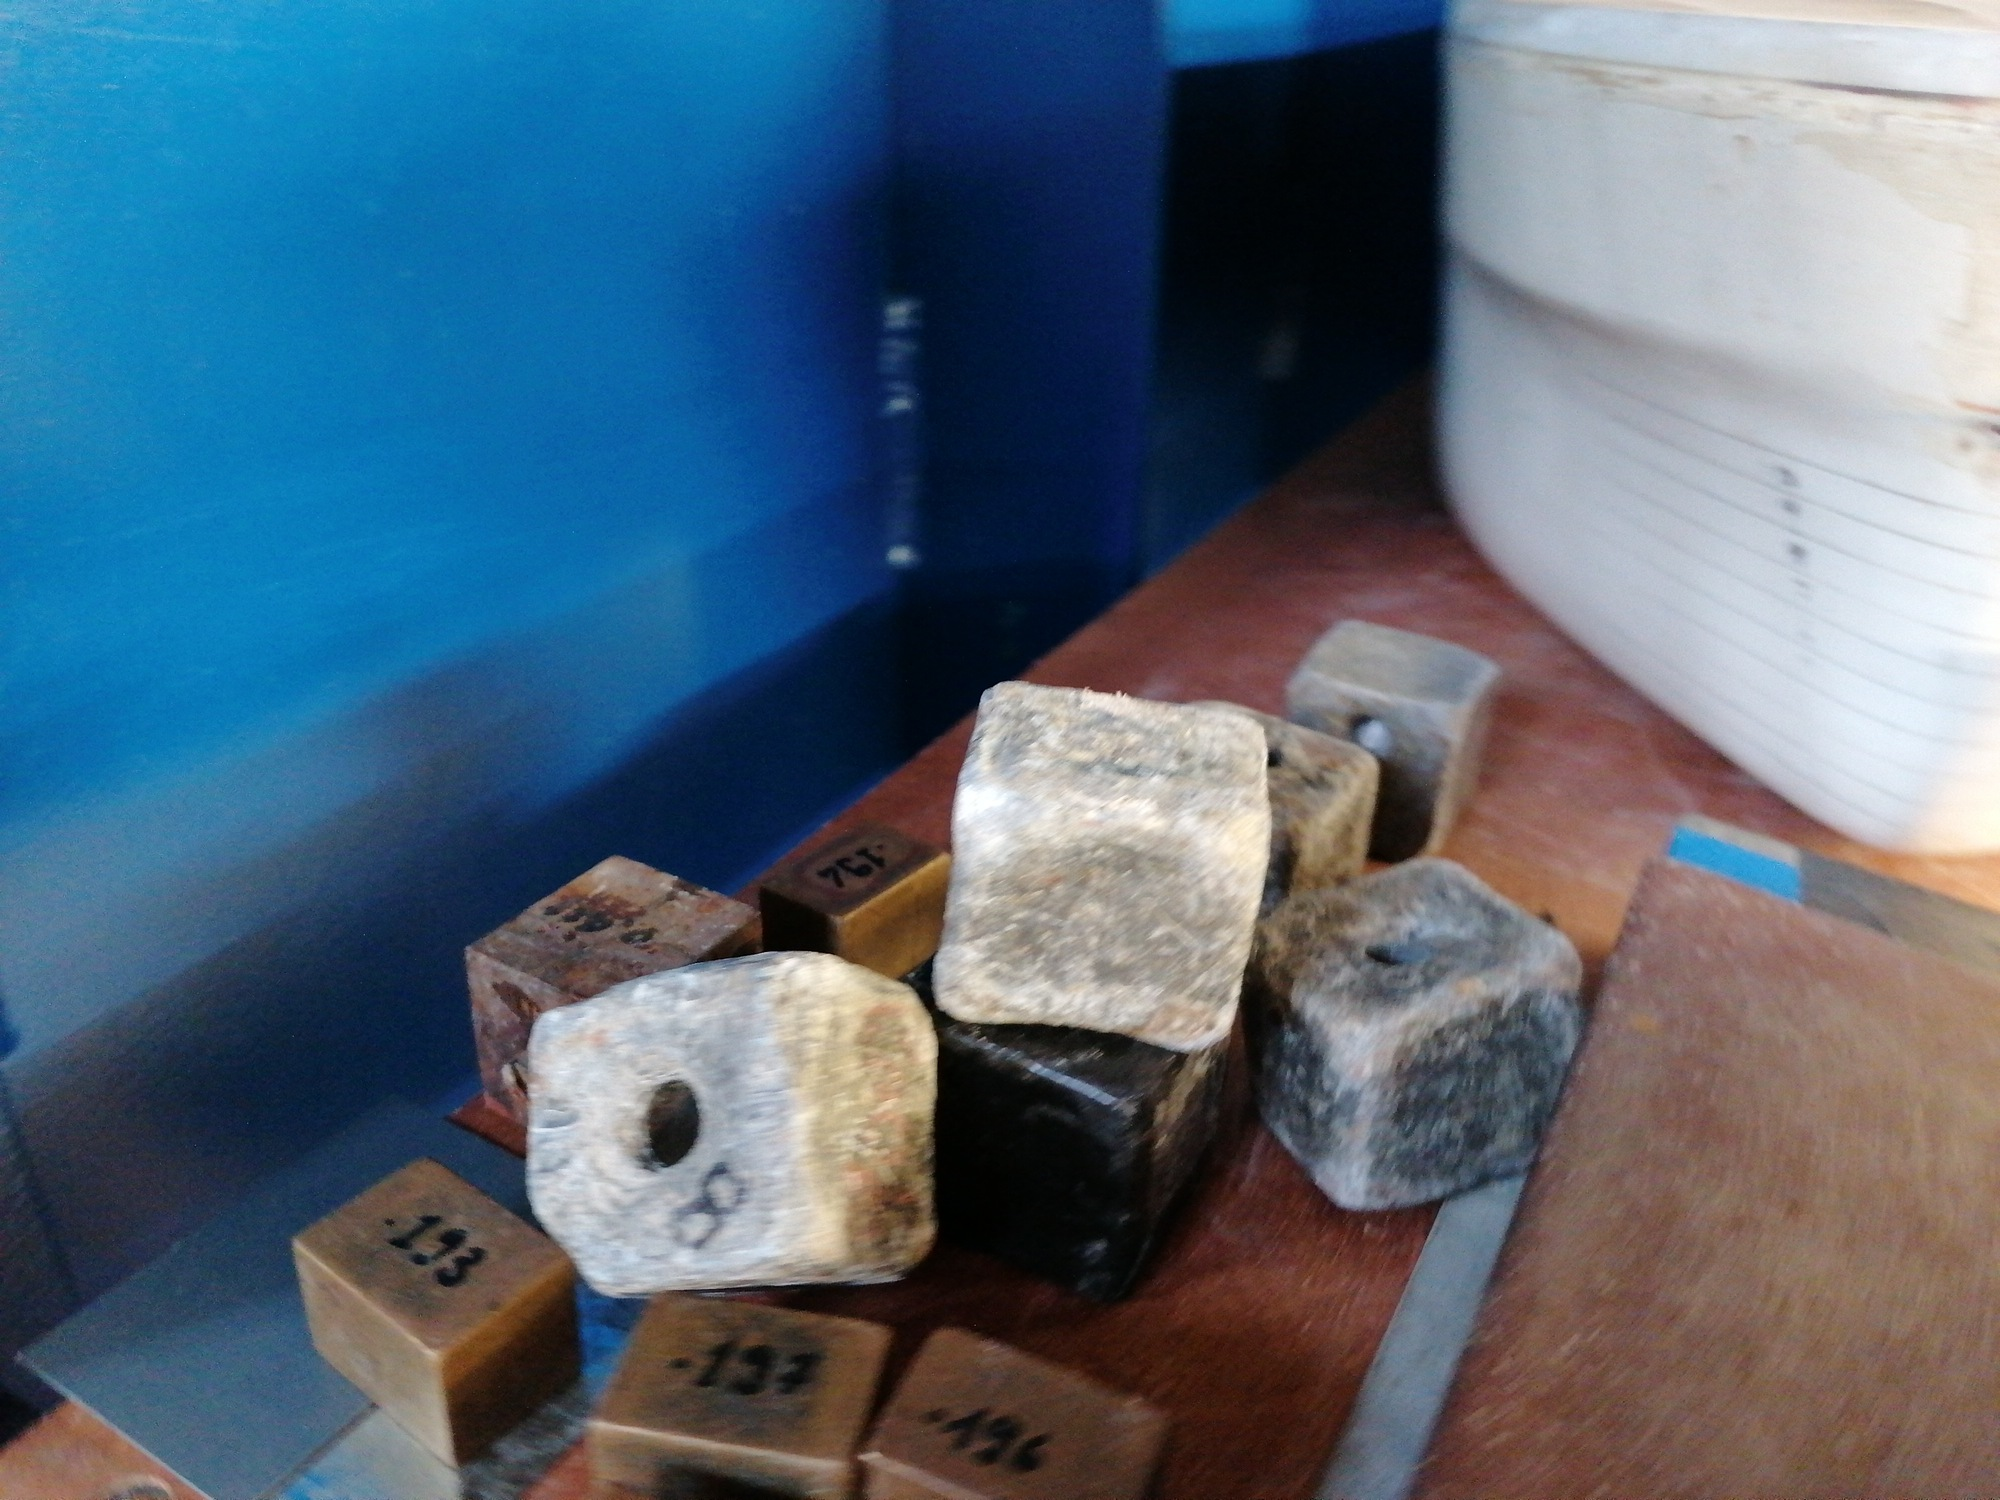lead-block: (520, 941, 946, 1303), (931, 674, 1272, 1056), (1246, 856, 1592, 1215), (287, 1155, 583, 1472), (461, 852, 769, 1138), (575, 1294, 896, 1495), (1279, 618, 1509, 863), (849, 1324, 1169, 1498), (754, 818, 956, 985), (1225, 698, 1386, 889)
